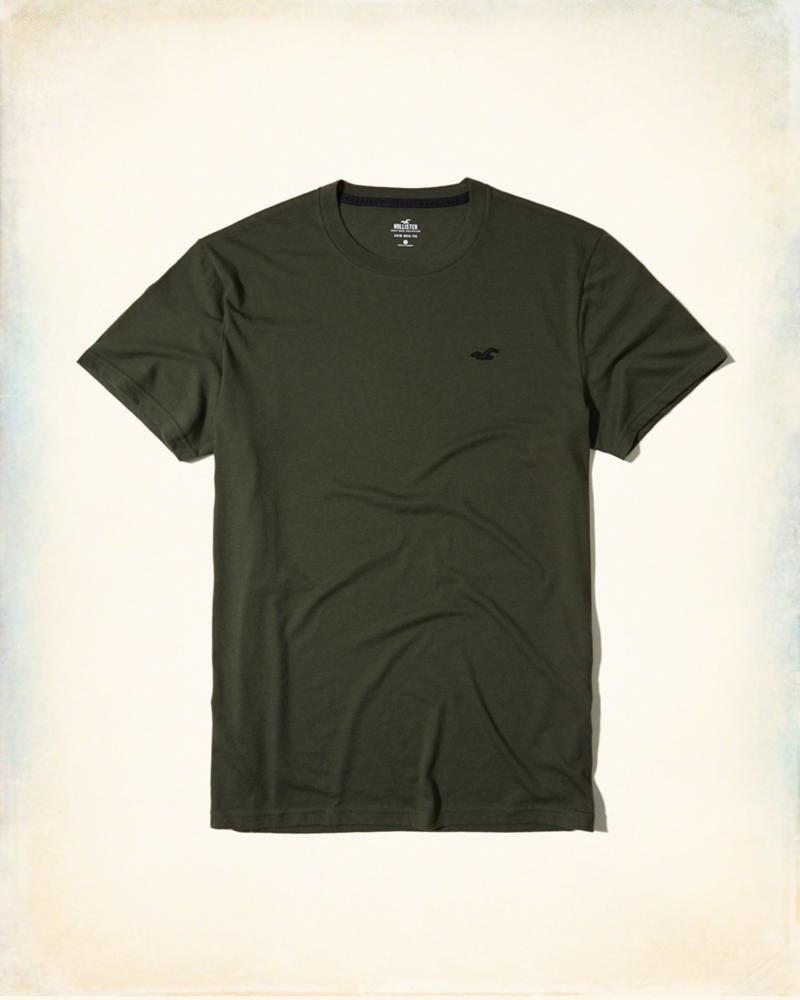teeshirt: (71, 168, 733, 884)
